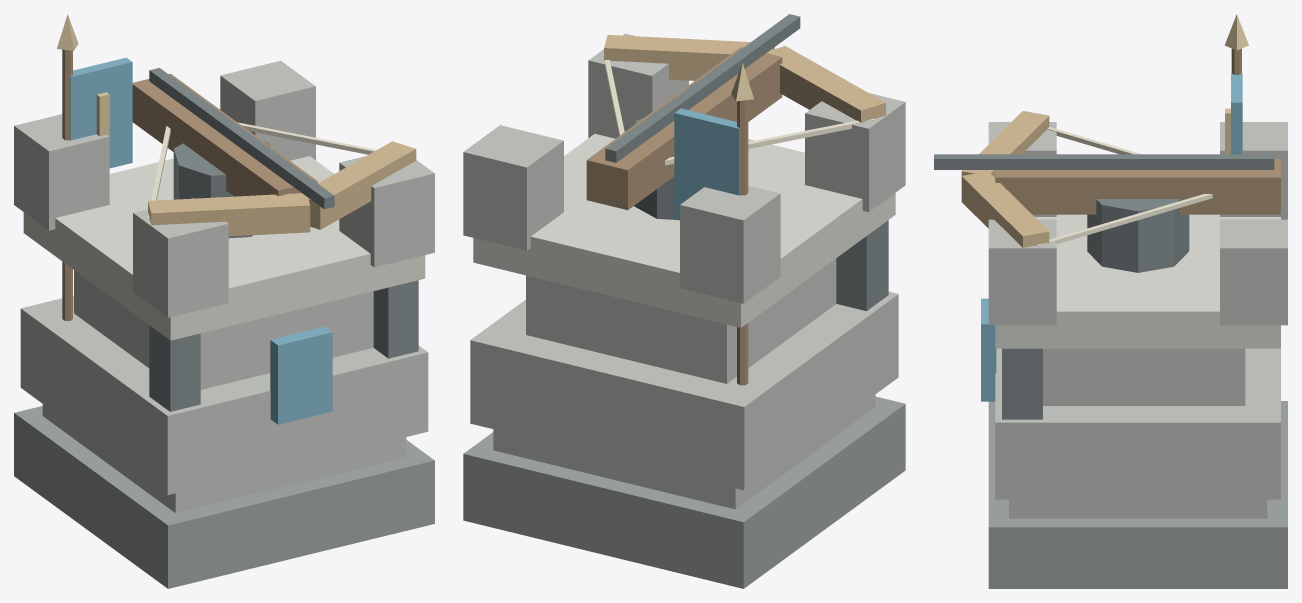
Rendered from human_ballista_t4.glb.
3 views of the same model, side by side, from view 1: azimuth 30°, elevation 25°; view 2: azimuth 150°, elevation 25°; view 3: azimuth 270°, elevation 25° (orthographic). The views are drawn at different scales.
Visible parts, largest first — view 1: human_ballista_t4_MAT_stone, human_ballista_t4_MAT_dark, human_ballista_t4_MAT_light, human_ballista_t4_MAT_iron, human_ballista_t4_MAT_blue, human_ballista_t4_MAT_edge, human_ballista_t4_MAT_wood, human_ballista_t4_MAT_white, human_ballista_t4_MAT_gold; view 2: human_ballista_t4_MAT_stone, human_ballista_t4_MAT_dark, human_ballista_t4_MAT_light, human_ballista_t4_MAT_wood, human_ballista_t4_MAT_iron, human_ballista_t4_MAT_edge, human_ballista_t4_MAT_blue, human_ballista_t4_MAT_white; view 3: human_ballista_t4_MAT_stone, human_ballista_t4_MAT_dark, human_ballista_t4_MAT_light, human_ballista_t4_MAT_iron, human_ballista_t4_MAT_wood, human_ballista_t4_MAT_edge, human_ballista_t4_MAT_blue, human_ballista_t4_MAT_white, human_ballista_t4_MAT_gold.
Part boxes in pixels (<box>): human_ballista_t4_MAT_stone: <box>14,60,434,513</box>; human_ballista_t4_MAT_dark: <box>14,406,434,588</box>; human_ballista_t4_MAT_light: <box>23,156,425,340</box>; human_ballista_t4_MAT_iron: <box>149,68,418,411</box>; human_ballista_t4_MAT_blue: <box>70,57,332,424</box>; human_ballista_t4_MAT_edge: <box>148,141,416,236</box>; human_ballista_t4_MAT_wood: <box>62,49,317,320</box>; human_ballista_t4_MAT_white: <box>147,122,376,218</box>; human_ballista_t4_MAT_gold: <box>57,14,109,136</box>; human_ballista_t4_MAT_stone: <box>463,33,905,509</box>; human_ballista_t4_MAT_dark: <box>463,396,905,588</box>; human_ballista_t4_MAT_light: <box>473,134,895,327</box>; human_ballista_t4_MAT_wood: <box>586,47,782,385</box>; human_ballista_t4_MAT_iron: <box>605,14,888,310</box>; human_ballista_t4_MAT_edge: <box>604,35,885,122</box>; human_ballista_t4_MAT_blue: <box>674,108,739,220</box>; human_ballista_t4_MAT_white: <box>603,53,874,165</box>; human_ballista_t4_MAT_stone: <box>988,122,1287,518</box>; human_ballista_t4_MAT_dark: <box>988,401,1287,588</box>; human_ballista_t4_MAT_light: <box>995,214,1280,348</box>; human_ballista_t4_MAT_iron: <box>934,154,1274,419</box>; human_ballista_t4_MAT_wood: <box>995,48,1280,214</box>; human_ballista_t4_MAT_edge: <box>961,111,1049,247</box>; human_ballista_t4_MAT_blue: <box>981,73,1242,401</box>; human_ballista_t4_MAT_white: <box>1036,127,1212,246</box>; human_ballista_t4_MAT_gold: <box>1224,14,1248,154</box>.
Bounding box in the file's own units: 0.88 × 1.5 × 1.04.
